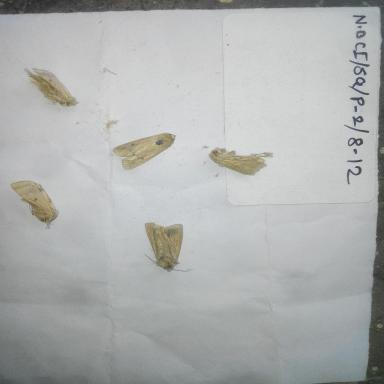abw: (108, 126, 188, 174), (3, 175, 66, 231), (137, 217, 192, 278), (19, 60, 84, 110), (200, 140, 277, 182)
